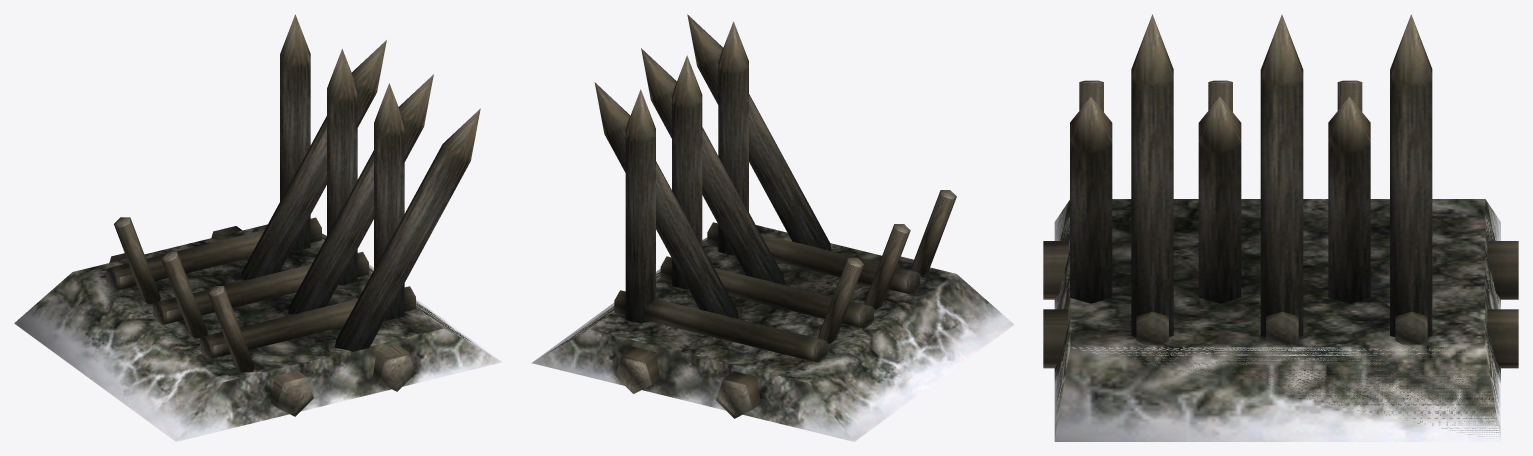
File: stwa4.dae
The picture shows the model from 3 angles, left to right: view 1: azimuth 30°, elevation 25°; view 2: azimuth 150°, elevation 25°; view 3: azimuth 270°, elevation 25°; orthographic projection. The views are drawn at different scales.
Parts seen in each view (by area): view 1: fence; view 2: fence; view 3: fence, base.
Part boxes in pixels (bbox=[...]): fence: bbox=[14, 14, 502, 441]; fence: bbox=[531, 14, 1014, 441]; fence: bbox=[1043, 14, 1518, 441]; base: bbox=[1072, 347, 1500, 440].
Size of the model in its own units: 4.8 by 4.39 by 3.83.
Materials: 1 (1 with a texture image).
